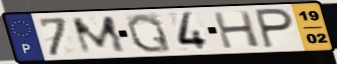4: (175, 11, 211, 53)
7: (38, 16, 69, 57)
H: (211, 9, 263, 50)
M: (69, 14, 130, 56)
P: (253, 7, 296, 50)
Q: (125, 12, 175, 54)
